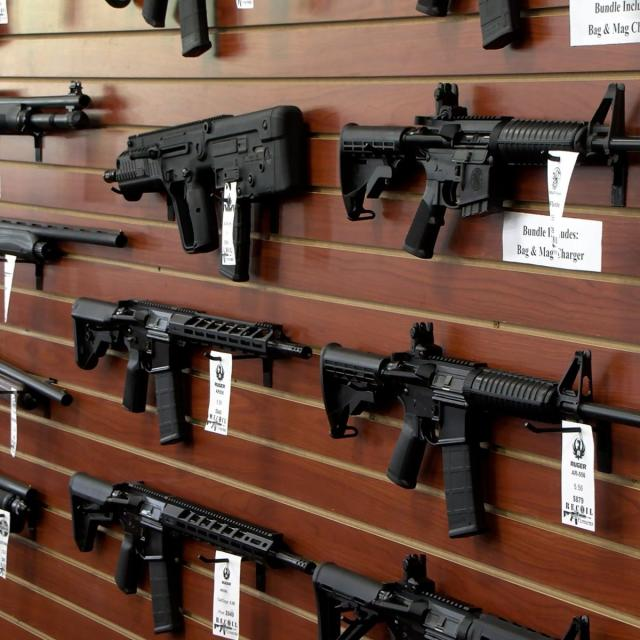Rifle: (322, 323, 640, 539), (340, 84, 640, 261), (69, 474, 318, 635), (104, 106, 311, 284), (72, 300, 313, 444)
